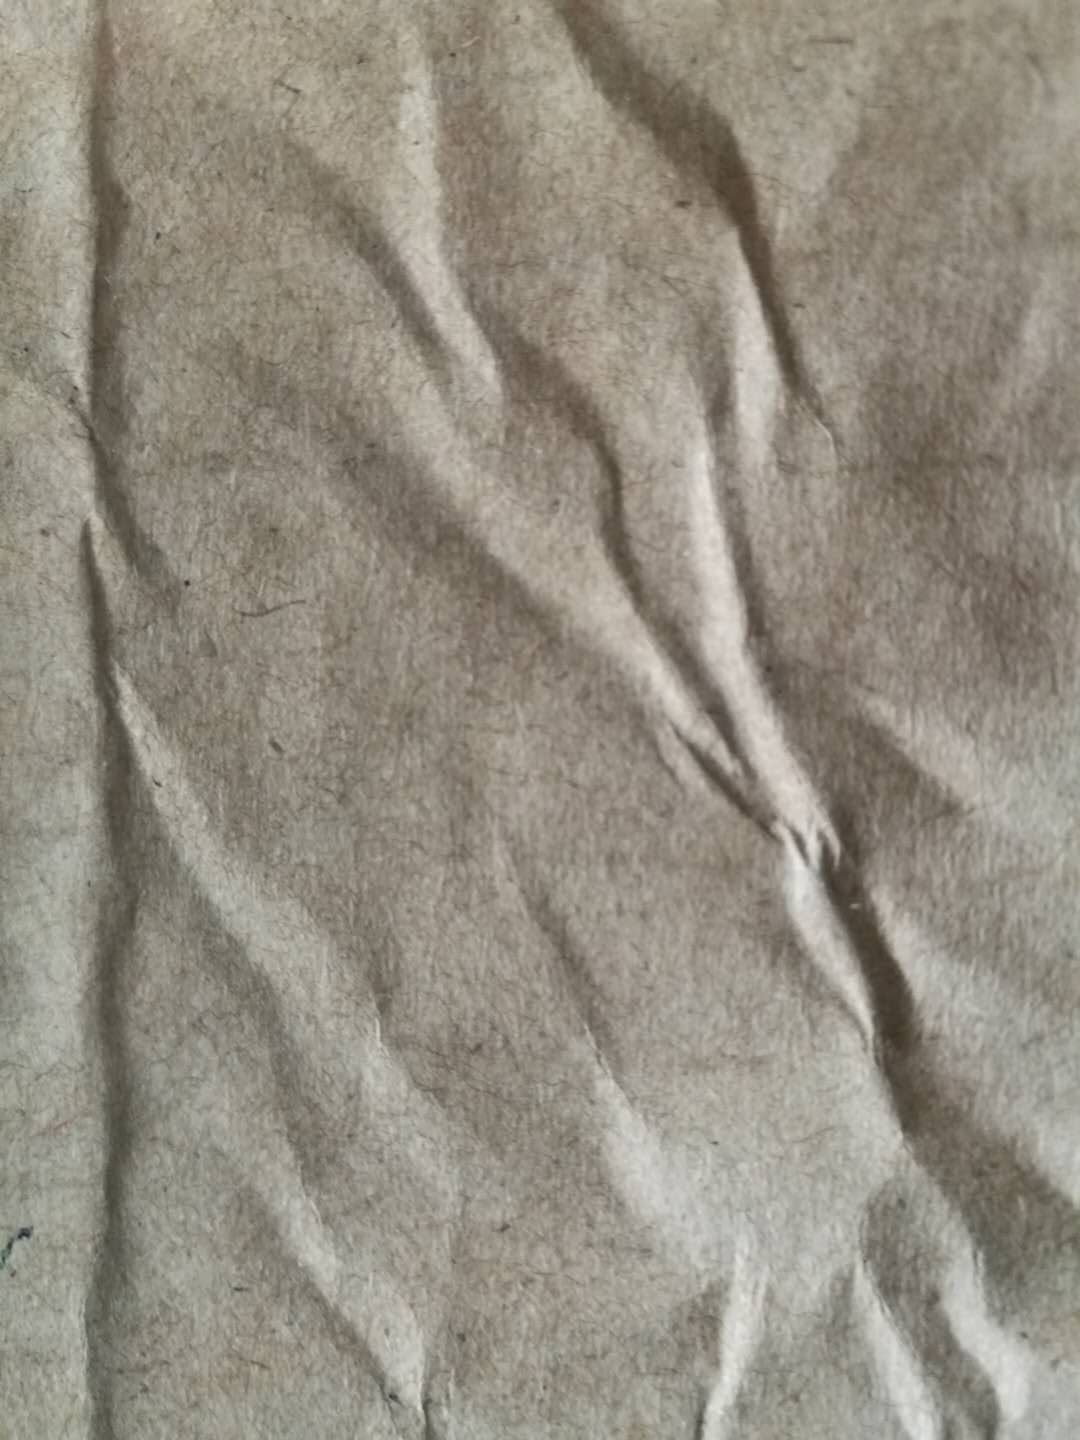defect: (5, 5, 1077, 1440)
